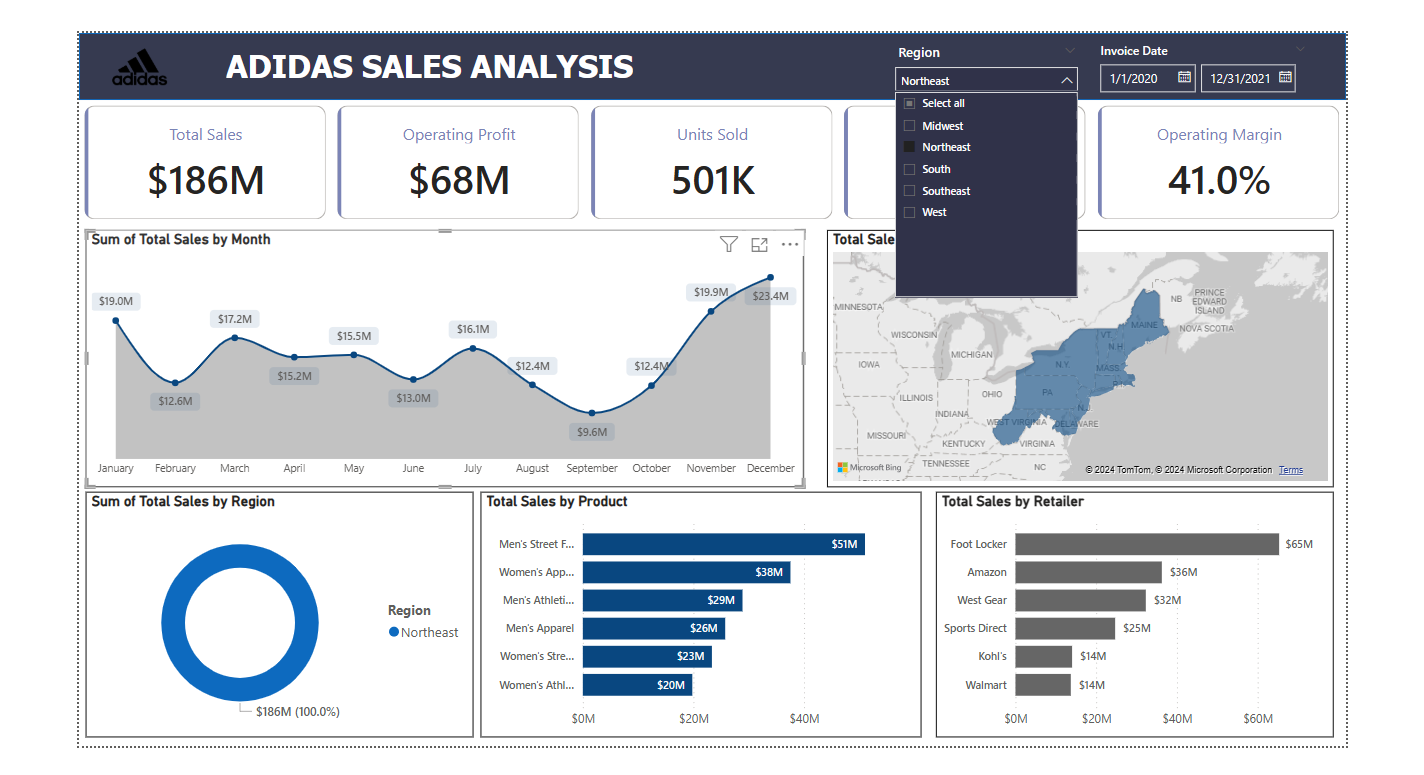

The page's visual inventory and layout, read from the dashboard file:
{"tool":"powerbi","page":{"name":"Adidas Dashboard","canvas":[1280,720],"ordinal":0},"visuals":[{"type":"shape","box":[0,0,1280,67.8],"z":0},{"type":"textbox","box":[143.3,7.8,431.1,52.2],"z":1000},{"type":"image","box":[24.4,10,74.4,47.8],"z":2000},{"type":"cardVisual","fields":{"Data":["Sum(Data Sales Adidas.Total Sales)","Sum(Data Sales Adidas.Operating Profit)","Sum(Data Sales Adidas.Units Sold)","Avg(Data Sales Adidas.Price per Unit)","Avg(Data Sales Adidas.Operating Margin)"]},"box":[0,67.8,1280,125.6],"z":3000},{"type":"areaChart","fields":{"Category":["Data Sales Adidas.Invoice Date.Variation.Date Hierarchy.Month"],"Y":["Sum(Data Sales Adidas.Total Sales)"]},"box":[6.7,198.9,725.6,260],"z":4000},{"type":"filledMap","title":"Total Sales by State","fields":{"Category":["Data Sales Adidas.State"],"Y":["Sum(Data Sales Adidas.Total Sales)"]},"box":[755.6,198.9,512.2,260],"z":5000},{"type":"donutChart","fields":{"Category":["Data Sales Adidas.Region"],"Y":["Sum(Data Sales Adidas.Total Sales)"]},"box":[6.7,463.3,392.2,247.8],"z":6000},{"type":"barChart","title":"Total Sales by Product","fields":{"Category":["Data Sales Adidas.Product"],"Y":["Sum(Data Sales Adidas.Total Sales)"]},"box":[405.6,463.3,445.6,247.8],"z":7000},{"type":"barChart","title":"Total Sales by Retailer","fields":{"Y":["Sum(Data Sales Adidas.Total Sales)"],"Category":["Data Sales Adidas.Retailer"]},"box":[865.6,463.3,402.2,247.8],"z":8000},{"type":"slicer","fields":{"Values":["Data Sales Adidas.Region"]},"box":[814.4,4.4,204.4,53.3],"z":9000},{"type":"slicer","fields":{"Values":["Data Sales Adidas.Invoice Date"]},"box":[1018.9,4.4,232.2,60],"z":10000}]}

Visuals, with their boxes on the page's 1280x720 design canvas (x1, y1, x2, y2). These are canvas units, not pixel positions in the 1424x775 screenshot, which may show the page scaled, cropped or inside an application window:
shape: x1=0 y1=0 x2=1280 y2=68
textbox: x1=143 y1=8 x2=574 y2=60
image: x1=24 y1=10 x2=99 y2=58
cardVisual - Sum(Data Sales Adidas.Total Sales) x Sum(Data Sales Adidas.Operating Profit): x1=0 y1=68 x2=1280 y2=193
areaChart - Data Sales Adidas.Invoice Date.Variation.Date Hierarchy.Month x Sum(Data Sales Adidas.Total Sales): x1=7 y1=199 x2=732 y2=459
"Total Sales by State" filledMap: x1=756 y1=199 x2=1268 y2=459
donutChart - Data Sales Adidas.Region x Sum(Data Sales Adidas.Total Sales): x1=7 y1=463 x2=399 y2=711
"Total Sales by Product" barChart: x1=406 y1=463 x2=851 y2=711
"Total Sales by Retailer" barChart: x1=866 y1=463 x2=1268 y2=711
slicer - Data Sales Adidas.Region: x1=814 y1=4 x2=1019 y2=58
slicer - Data Sales Adidas.Invoice Date: x1=1019 y1=4 x2=1251 y2=64
